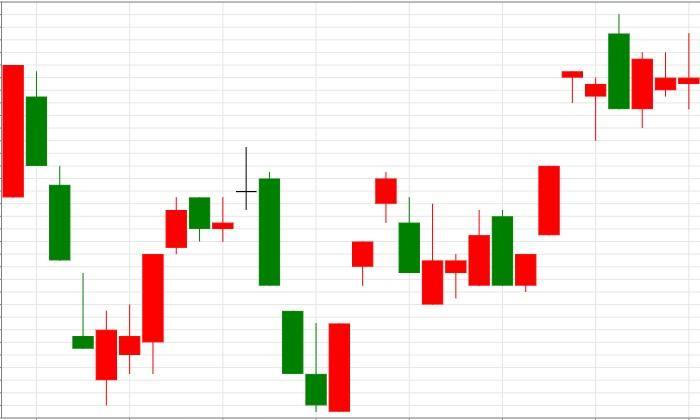bullish_engulfing_rise: (235, 146, 351, 412)
three_black_crows_fall: (95, 146, 328, 412)
three_white_soldiers_rise: (235, 146, 398, 412)
